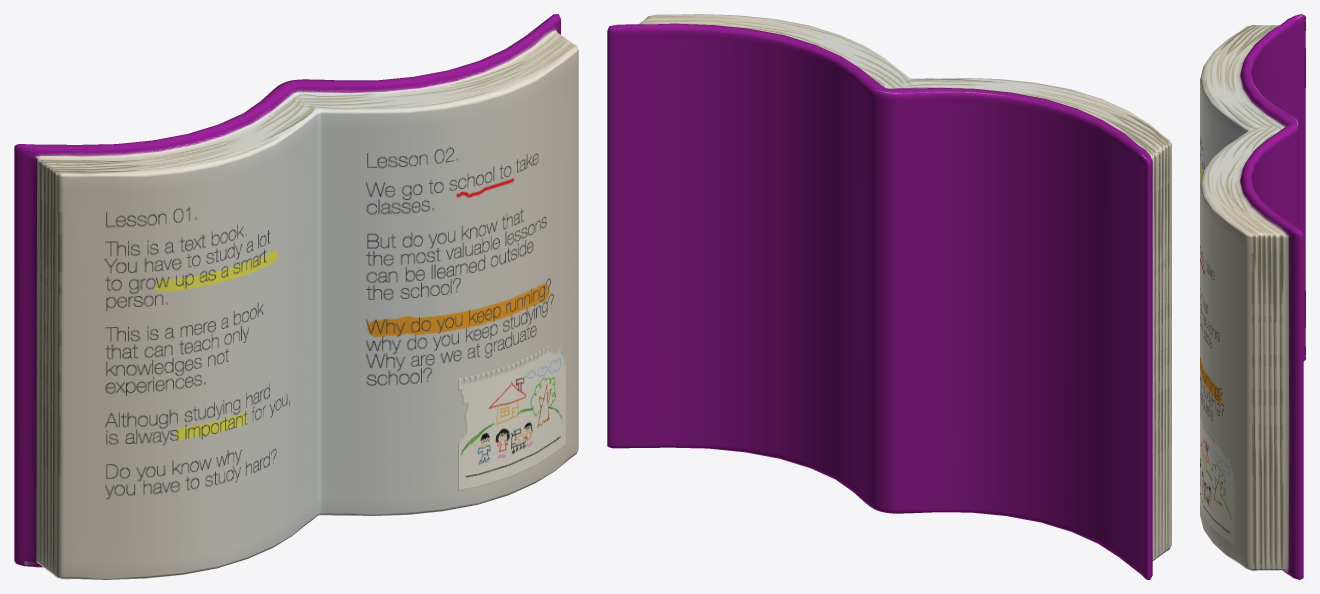
Rendered from book.FBX.
3 renders of one model, left to right at view 1: azimuth 30°, elevation 25°; view 2: azimuth 150°, elevation 25°; view 3: azimuth 270°, elevation 25°, orthographic. The views are drawn at different scales.
Visible parts, largest first — view 1: pCube1; view 2: pCube1; view 3: pCube1.
Part boxes in pixels (x1,y1,x2,y2): pCube1: [14, 14, 578, 579]; pCube1: [607, 14, 1171, 579]; pCube1: [1200, 14, 1305, 579].
Bounding box in the file's own units: 0.0829 × 0.0615 × 0.0169.
1 material, 1 textured.
